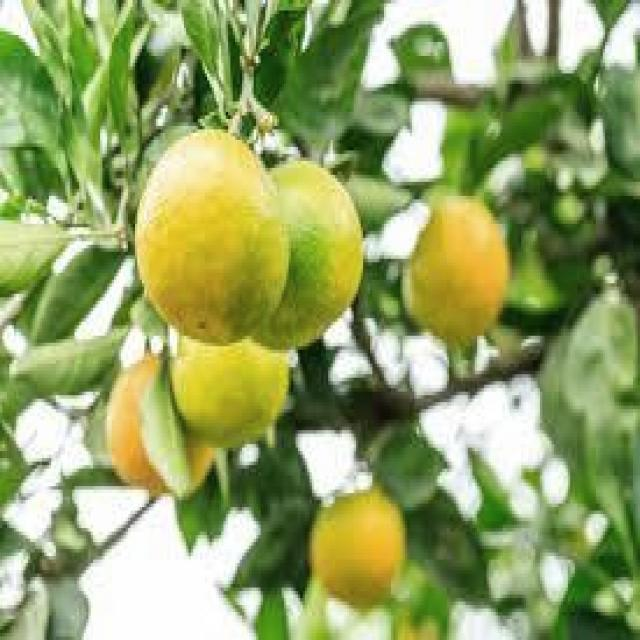Jeruk Sudah Matang: (137, 133, 291, 343), (235, 157, 368, 350), (172, 304, 291, 448), (106, 349, 216, 496), (402, 196, 510, 343), (312, 479, 407, 609)
